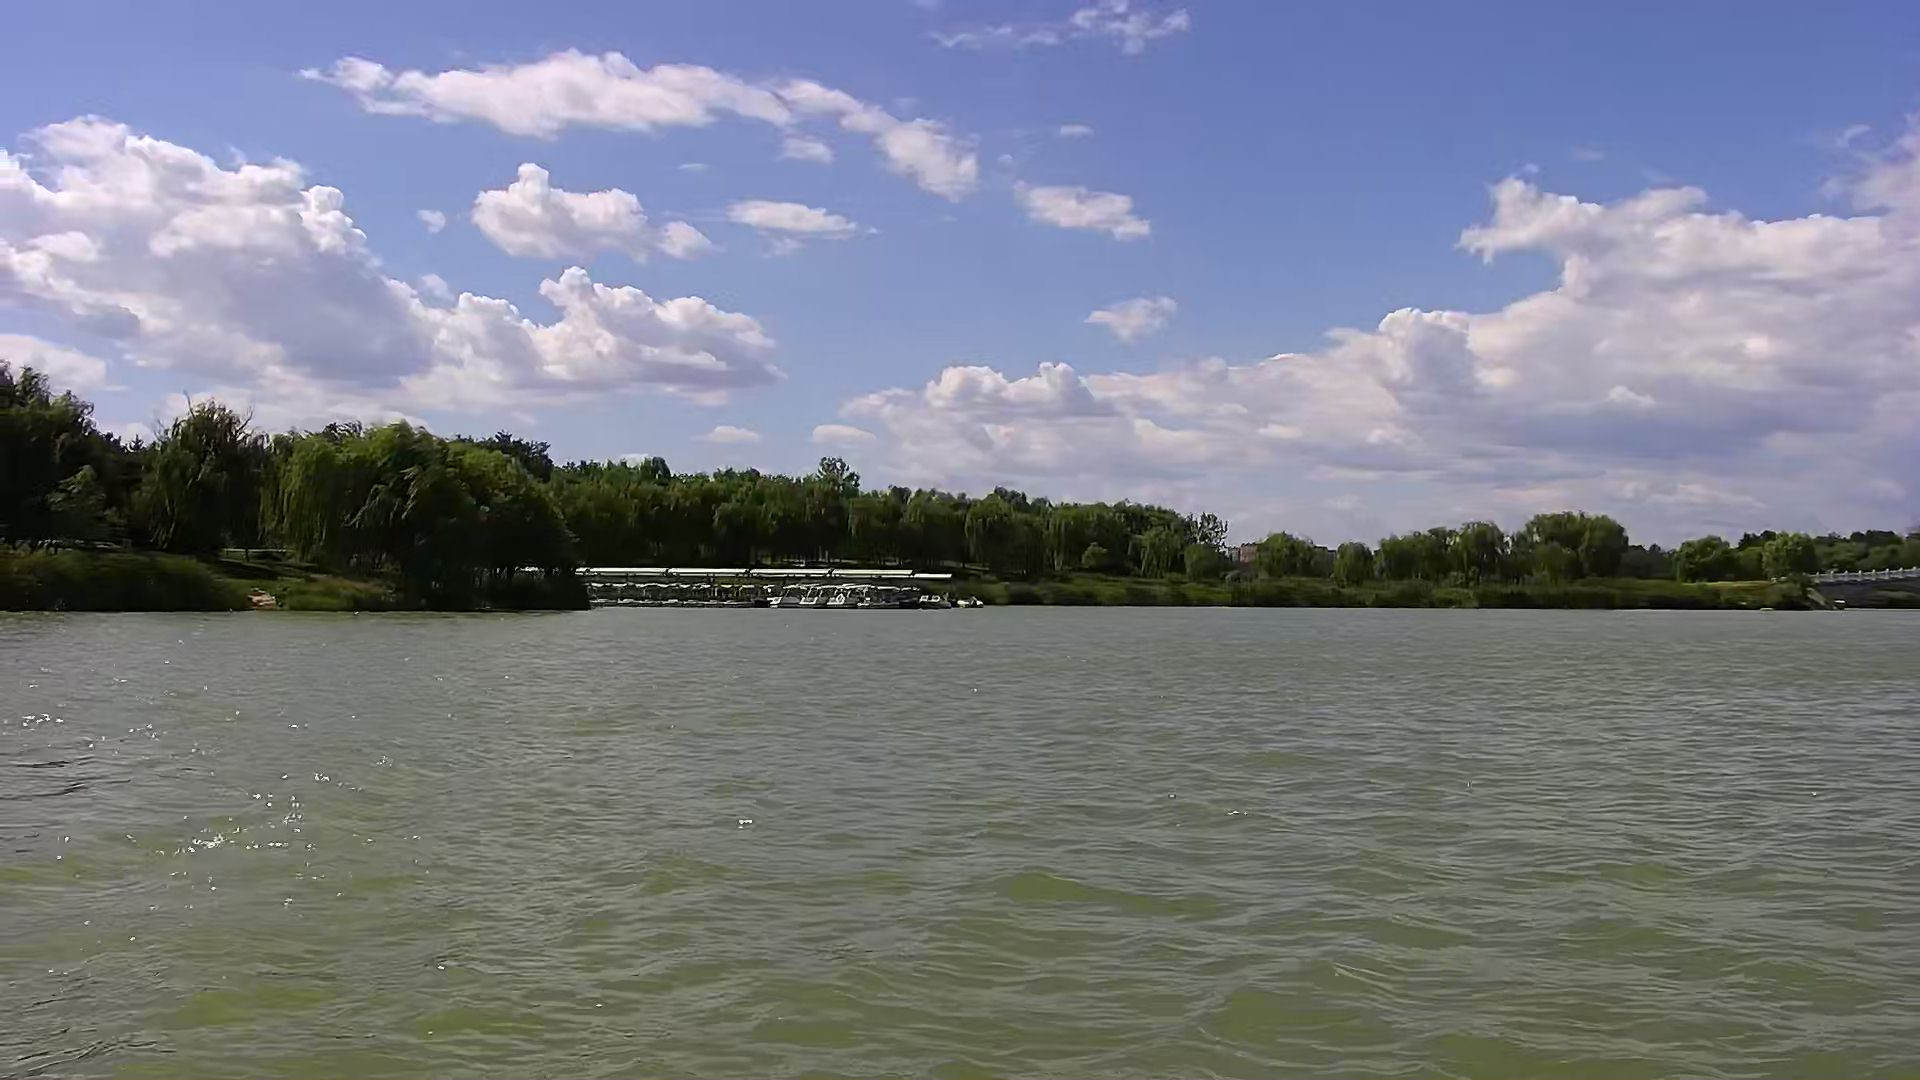bridge: (1799, 556, 1917, 611)
harbor: (571, 562, 989, 616)
